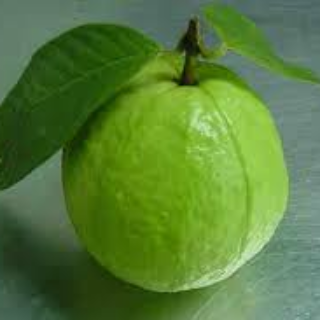oi: (58, 45, 293, 298)
